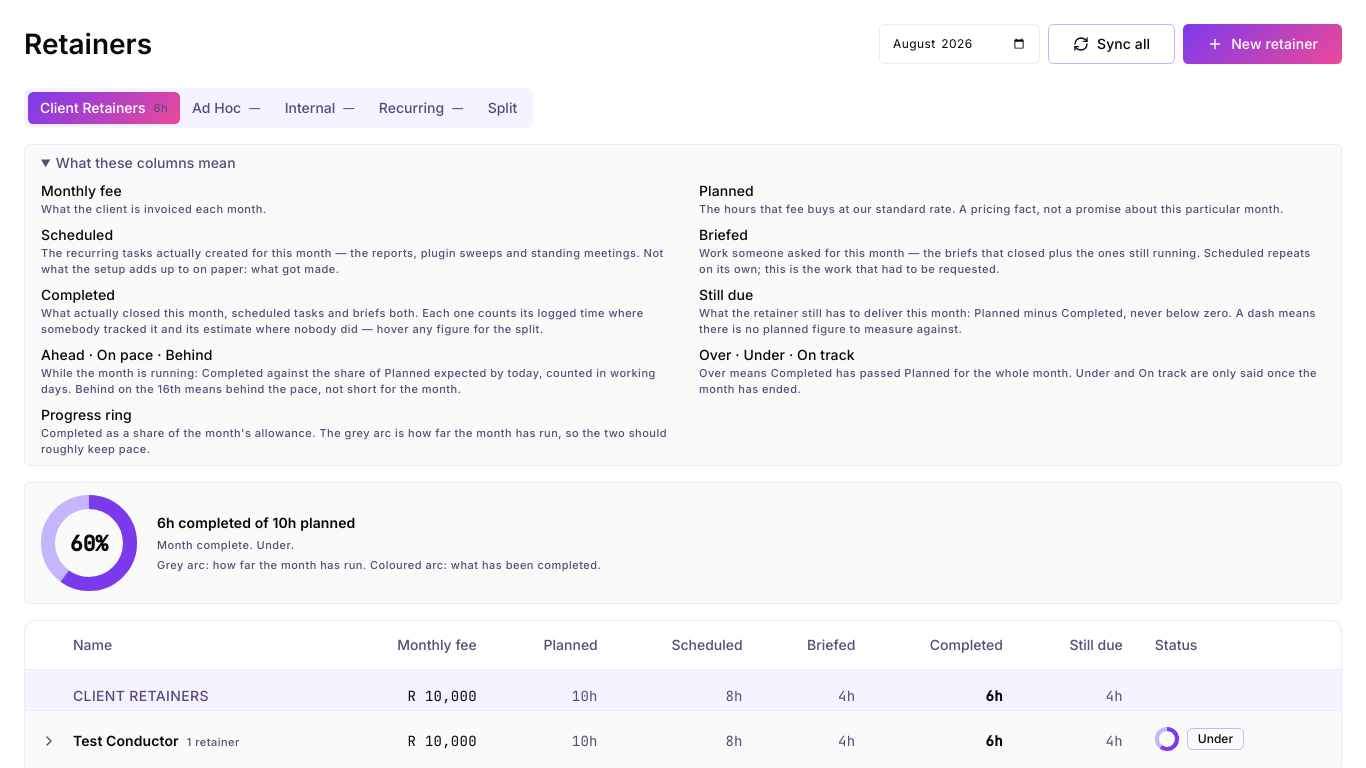
Scenario: RetainersList client vs internal › moves a single flagged retainer to Internal and leaves the client's invoiced one behind
The image size is (1366, 768).
Expected: the text "Test Conductor" is shown, [73,732,179,749]
Expected: the text "standing meeting" is not shown
Click the tab "Internal —" at (320, 108), box [273,92,367,124]
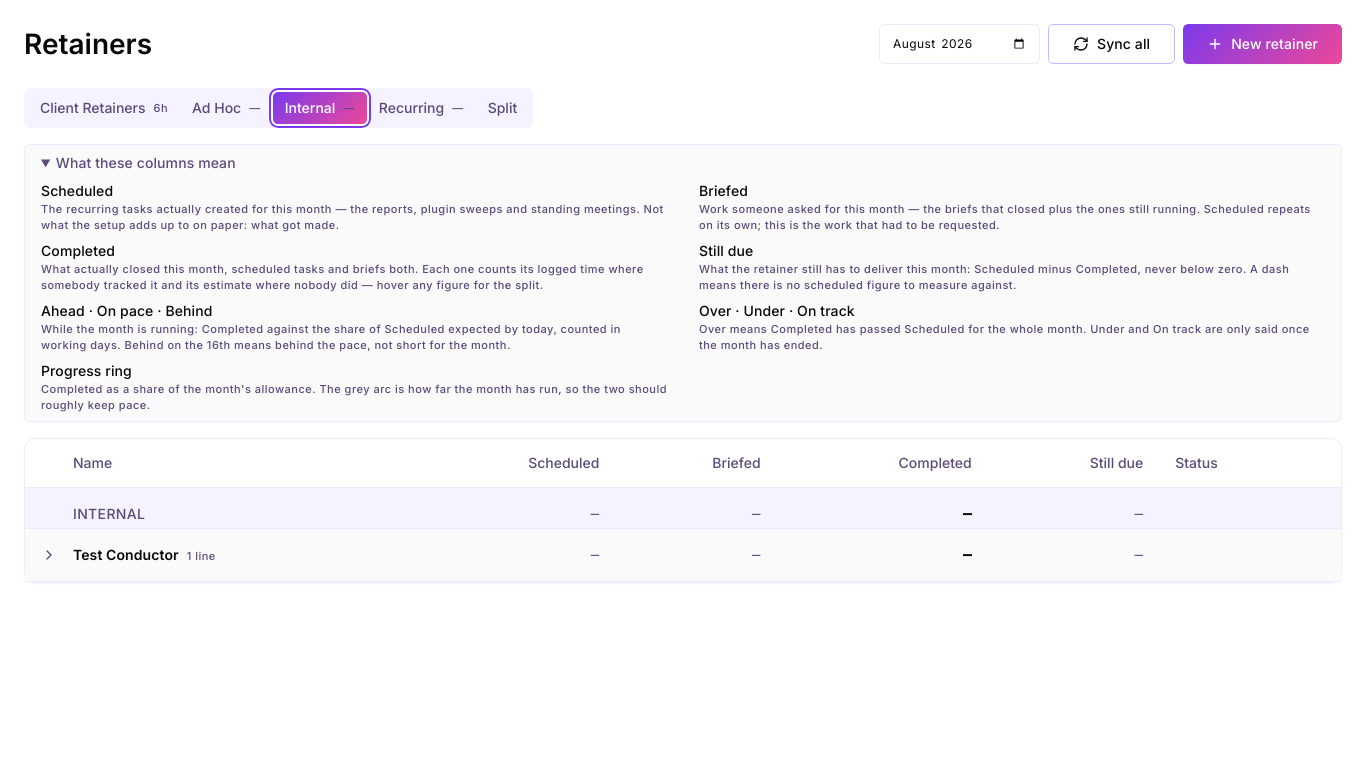
Click the button with aria-label "show retainers for test conductor" at (683, 554), box [25,528,1341,581]
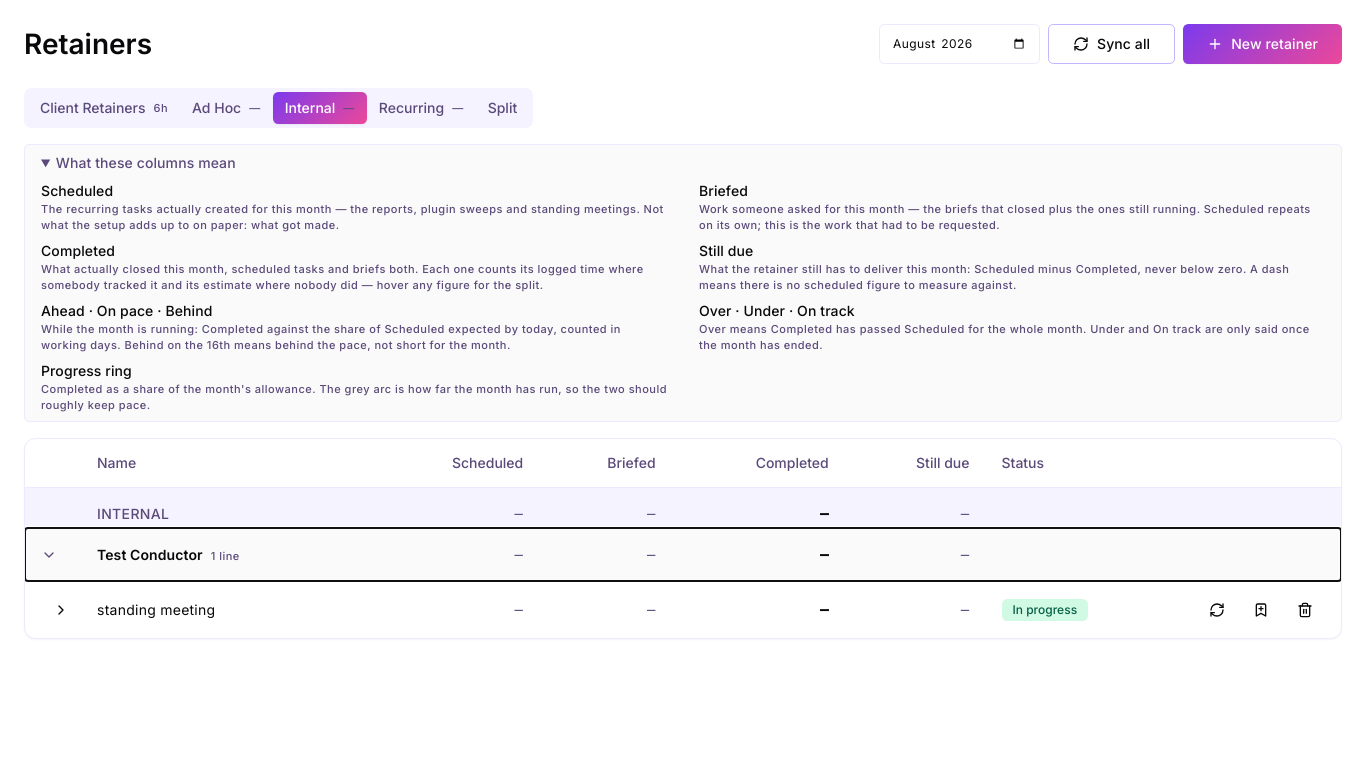
Now the text "standing meeting" is shown, box [81,581,369,638]
